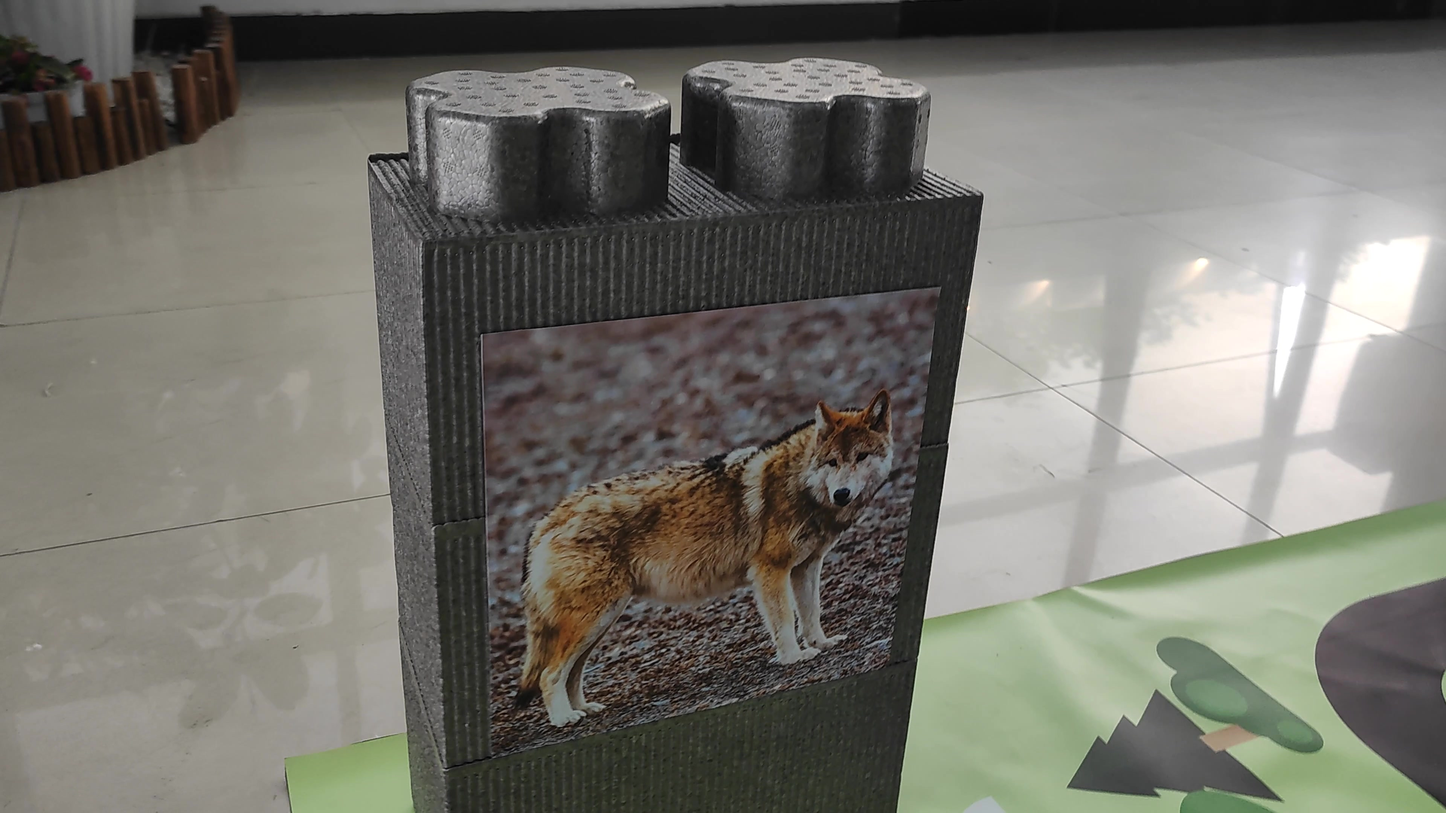wolf: (480, 342, 901, 736)
